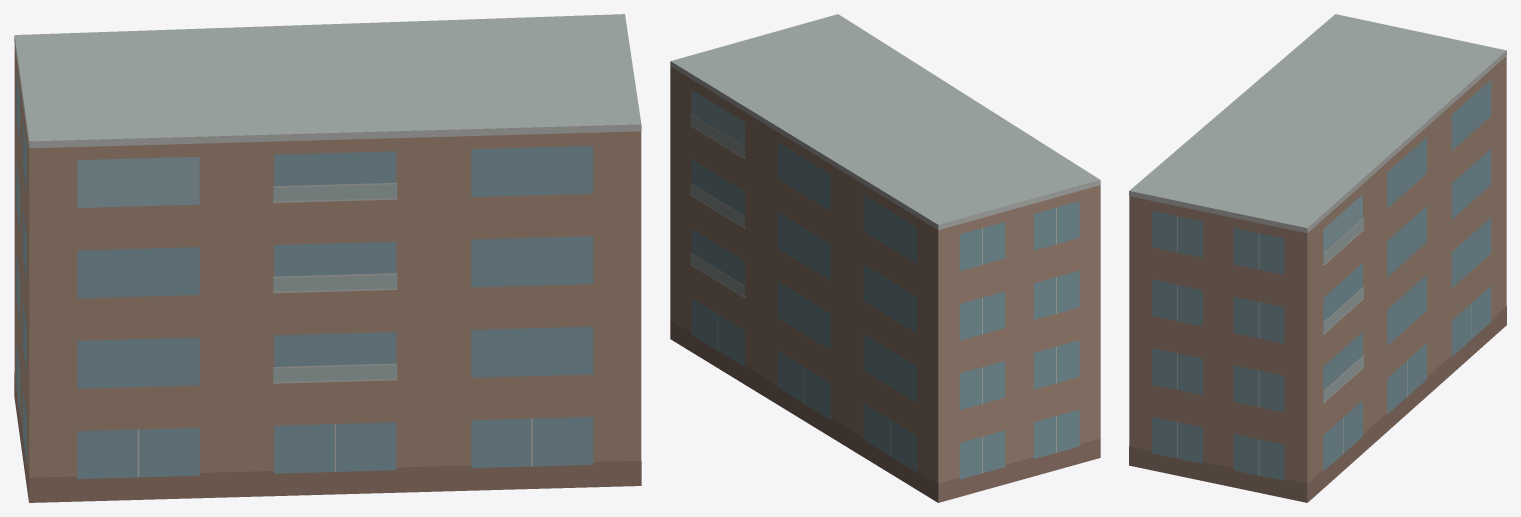
The model's file is survey-upis-32991782.glb.
3 renders of one model, left to right at view 1: azimuth 30°, elevation 25°; view 2: azimuth 150°, elevation 25°; view 3: azimuth 270°, elevation 25°, orthographic. The views are drawn at different scales.
Visible parts, largest first — view 1: survey-upis-32991782.tmp; view 2: survey-upis-32991782.tmp; view 3: survey-upis-32991782.tmp.
Part boxes in pixels (x1,y1,x2,y2): survey-upis-32991782.tmp: (14,14,641,502); survey-upis-32991782.tmp: (670,14,1100,502); survey-upis-32991782.tmp: (1129,14,1506,502).
Size of the model in its own units: 21.41 by 12.8 by 15.96.
